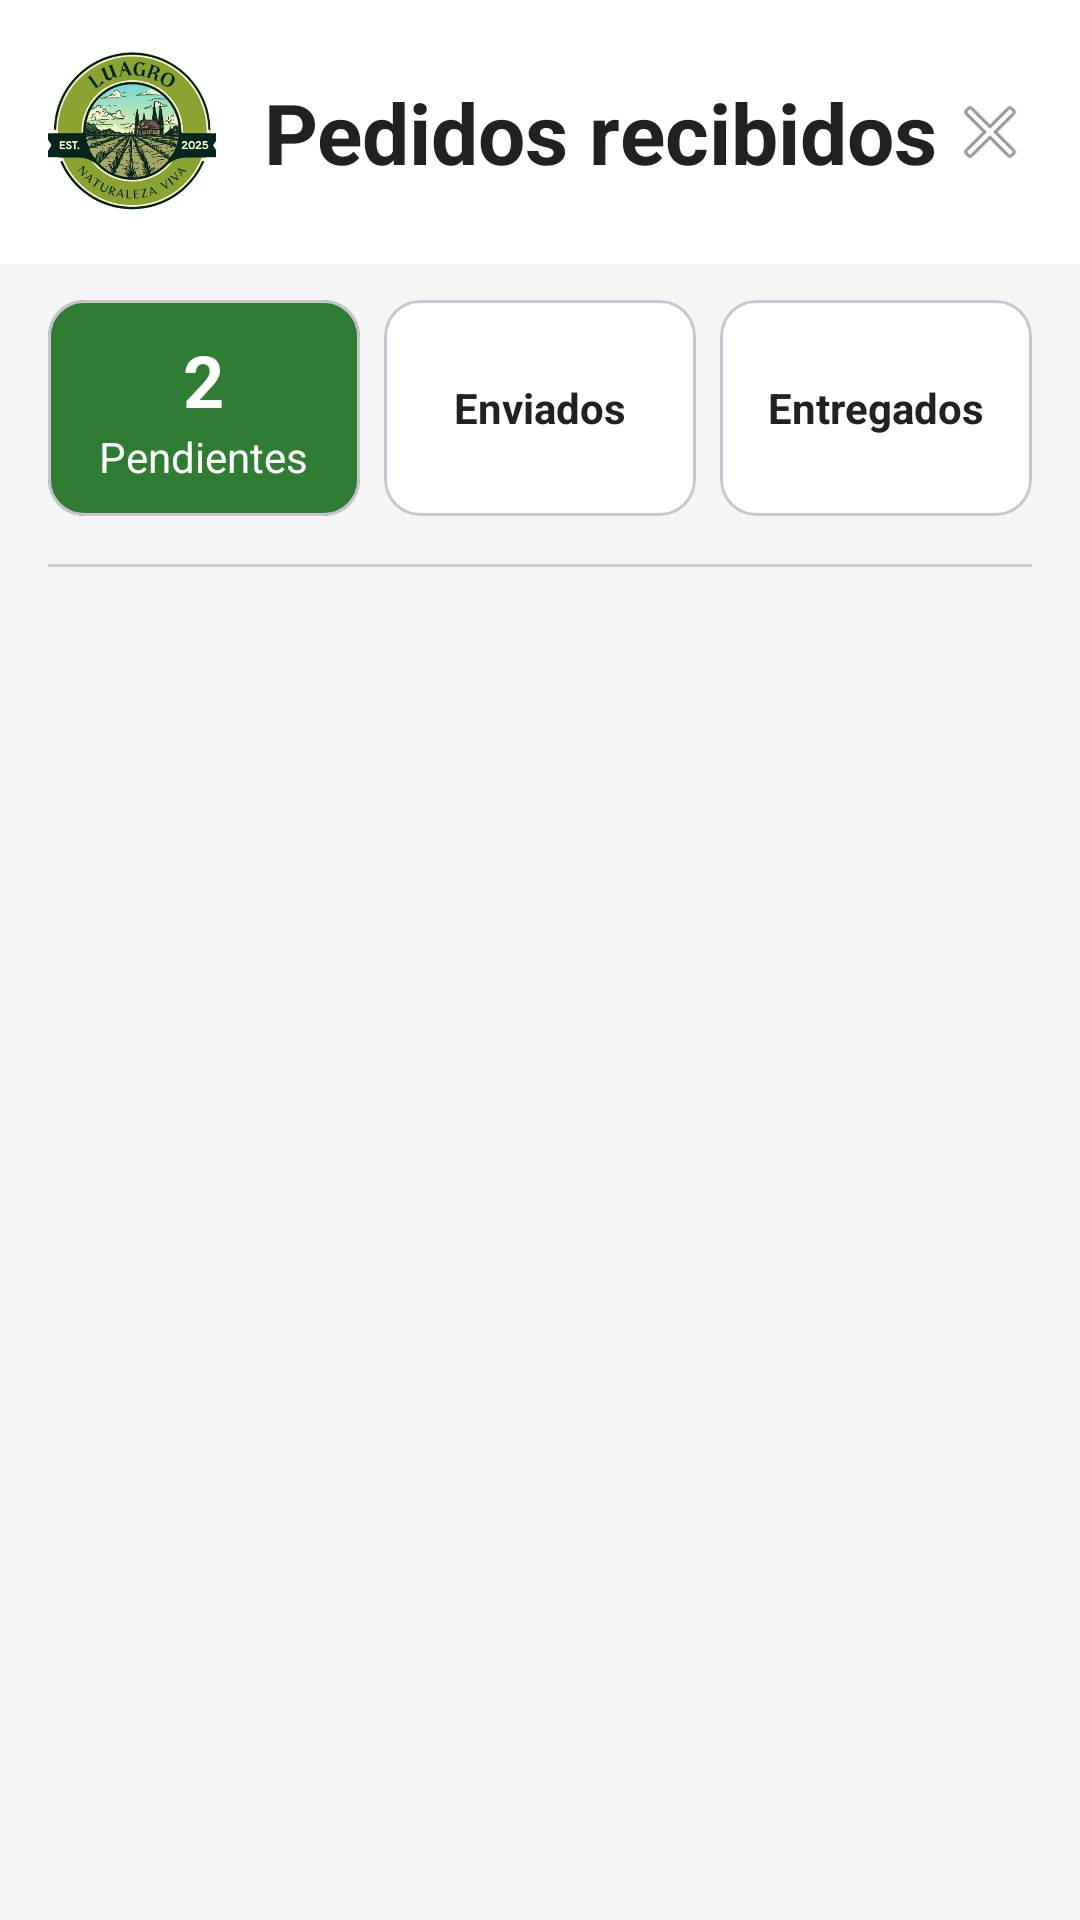

Named icons in this screenshot (1080x1920) and their bounding boxes, {"x1": x1, "y1": y1, "x2": x2, "y2": y2}:
close clear cancel: {"x1": 964, "y1": 106, "x2": 1016, "y2": 158}
